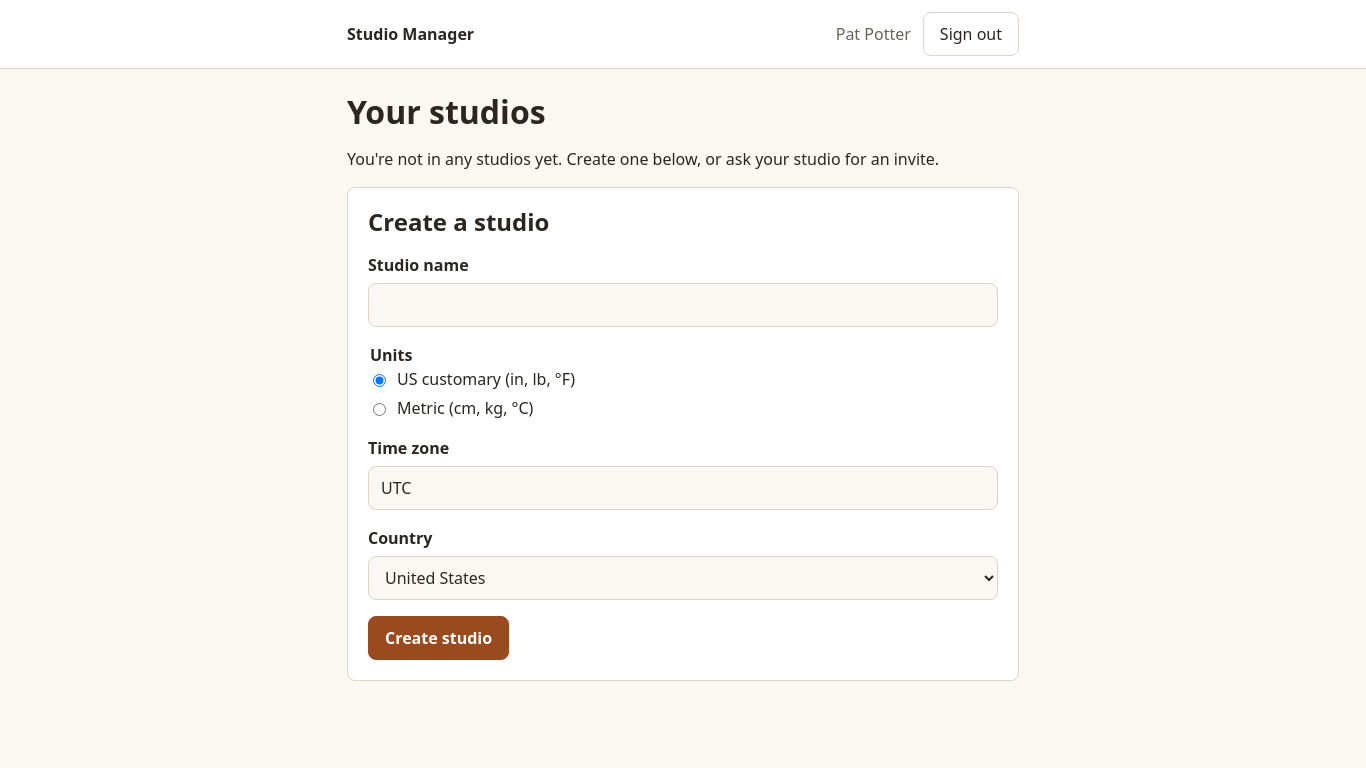
Scenario: creating a studio › posts the form, including the browser time zone and the chosen country, and opens the new studio
Expected: the text "not in any studios yet" is shown, [347, 148, 939, 170]
Type "  Clay Collective " into the field labelled "Studio name".
click(683, 305); type("  Clay Collective ")  # box [368, 283, 998, 327]
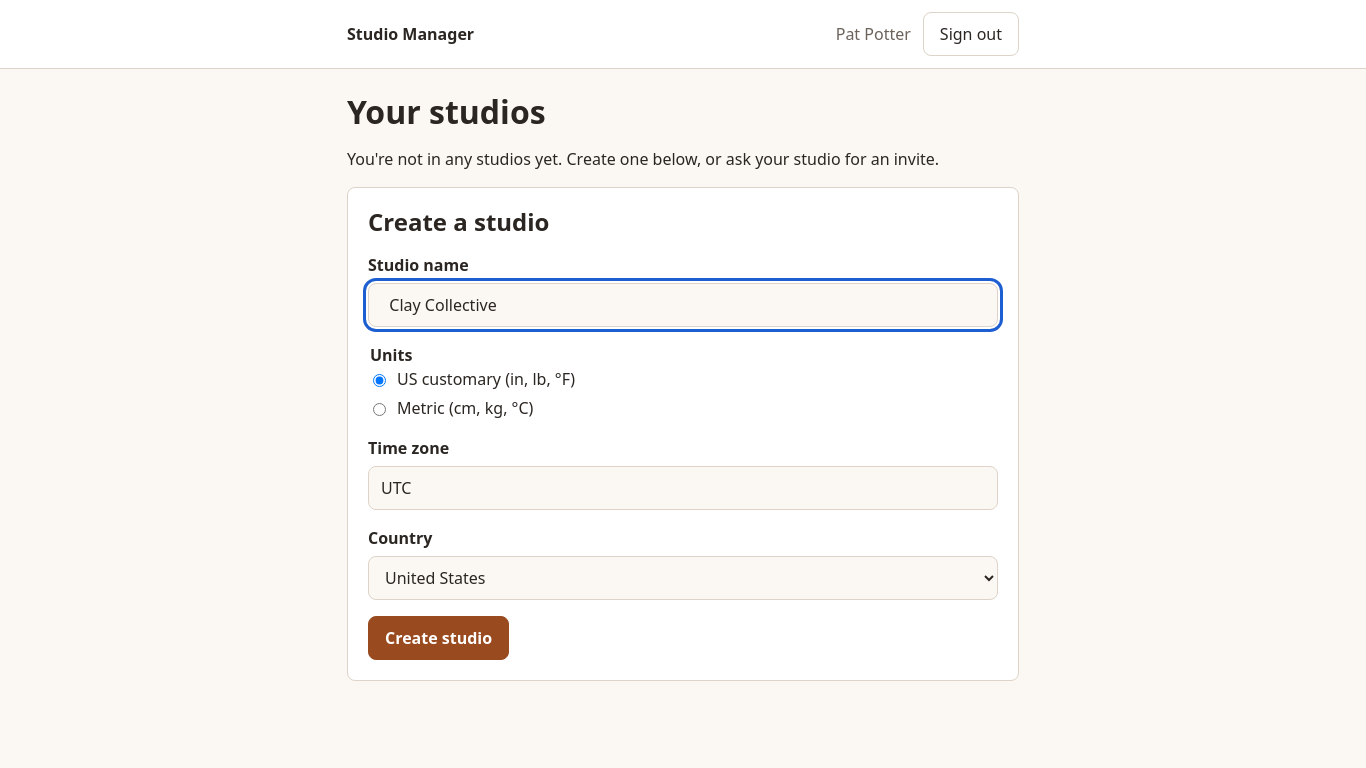
Click the radio button labelled "Metric (cm, kg, °C)".
click(380, 410)  # box [373, 403, 386, 416]
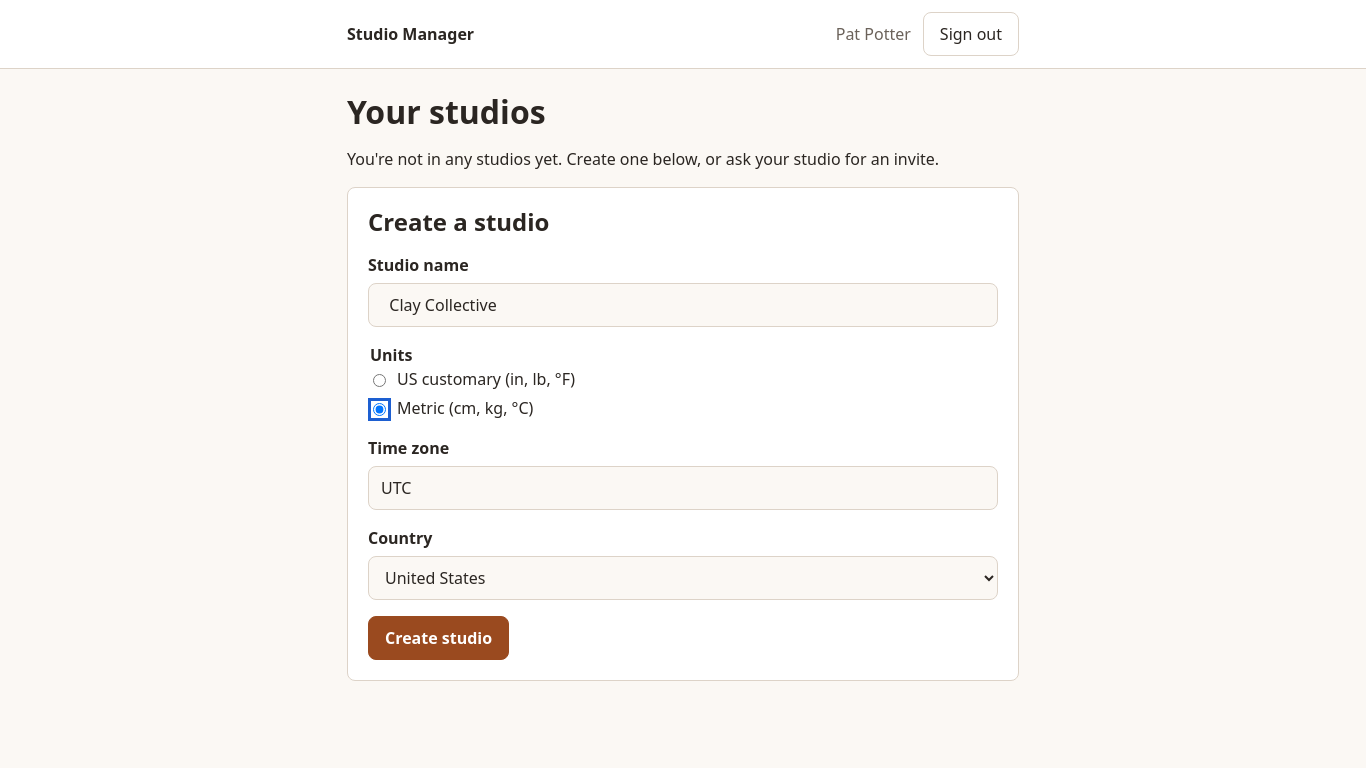
Select "GB" in the dropdown labelled "Country" at (683, 578), box [368, 556, 998, 600]
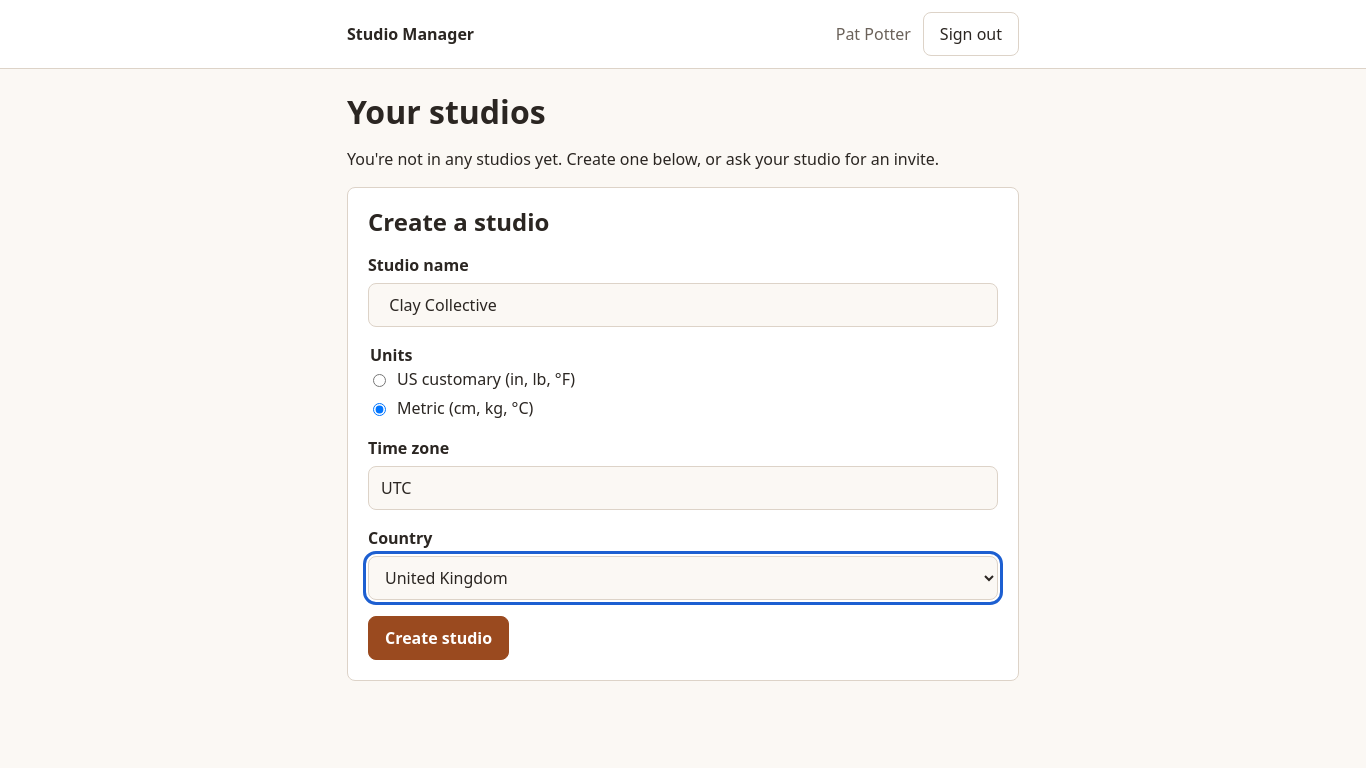
Click the button "Create studio".
click(439, 638)  # box [368, 616, 509, 660]
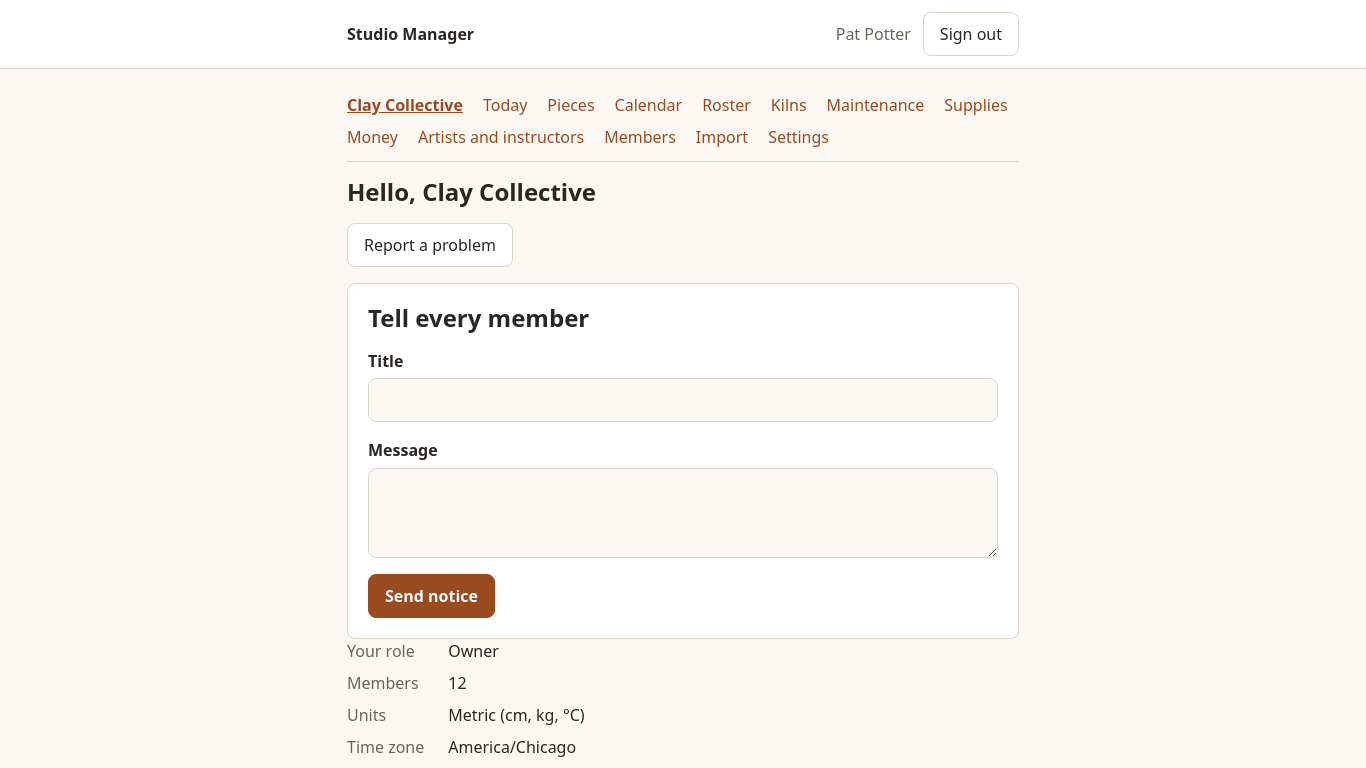
Expected: the heading "Hello, Clay Collective" is shown, [347, 175, 596, 208]
